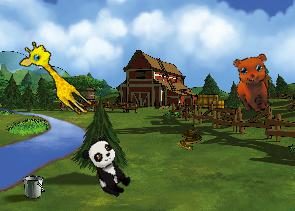bear: (225, 48, 285, 117)
giraffe: (14, 37, 102, 119)
panda: (78, 134, 137, 201)
